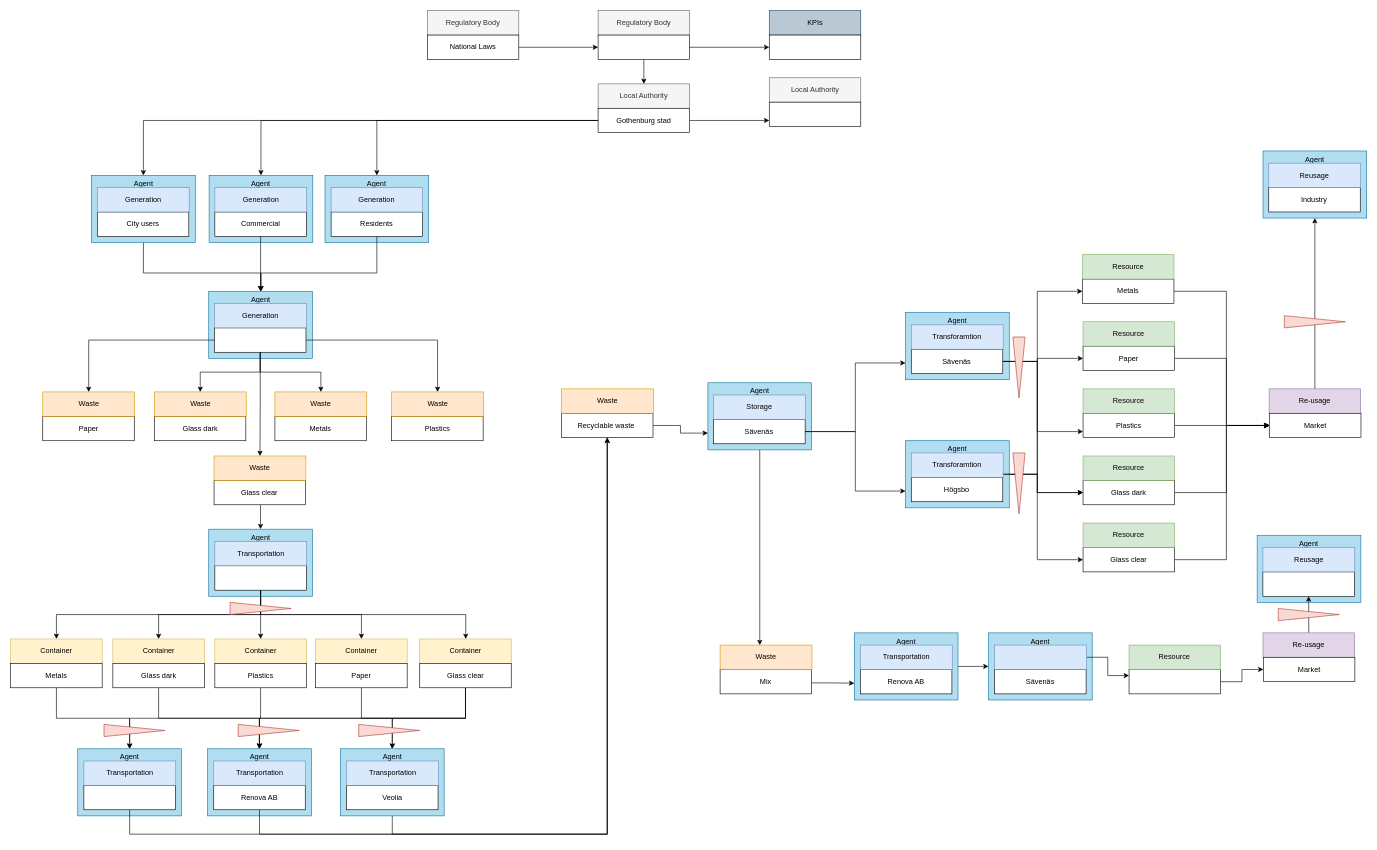
Some shapes in this 1377 by 850 pixel diagram are drawn without their labels. Each missing label, with the centre of its shape:
"Built environment" belongs at point (260, 339).
"Energy" belongs at point (1174, 681).
"Goteborg Energi" belongs at point (1308, 583).
"Individual" belongs at point (260, 577).
"Local Legislation" belongs at point (643, 46).
"Stena" belongs at point (129, 797).
"Transformation" belongs at point (1040, 656).
"Västra Götaland" belongs at point (815, 114).
